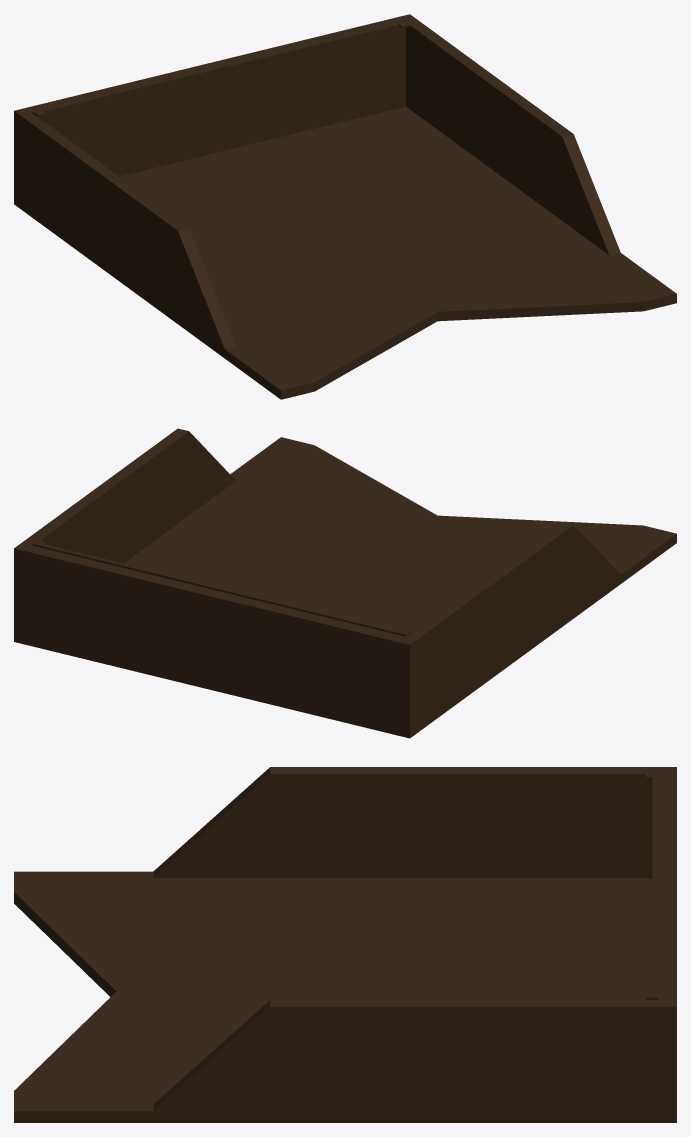
The model's file is Letter_Tray.fbx.
3 views of the same model, one above another, from view 1: azimuth 30°, elevation 25°; view 2: azimuth 150°, elevation 25°; view 3: azimuth 270°, elevation 25° (orthographic). The views are drawn at different scales.
Parts seen in each view (by area): view 1: letter tray; view 2: letter tray; view 3: letter tray.
Boxes of the visible parts, x1,y1,x2,y2 form: letter tray: (14, 14, 676, 399); letter tray: (14, 428, 676, 738); letter tray: (14, 767, 676, 1122).
Size of the model in its own units: 44.3 by 10.2 by 51.75.
